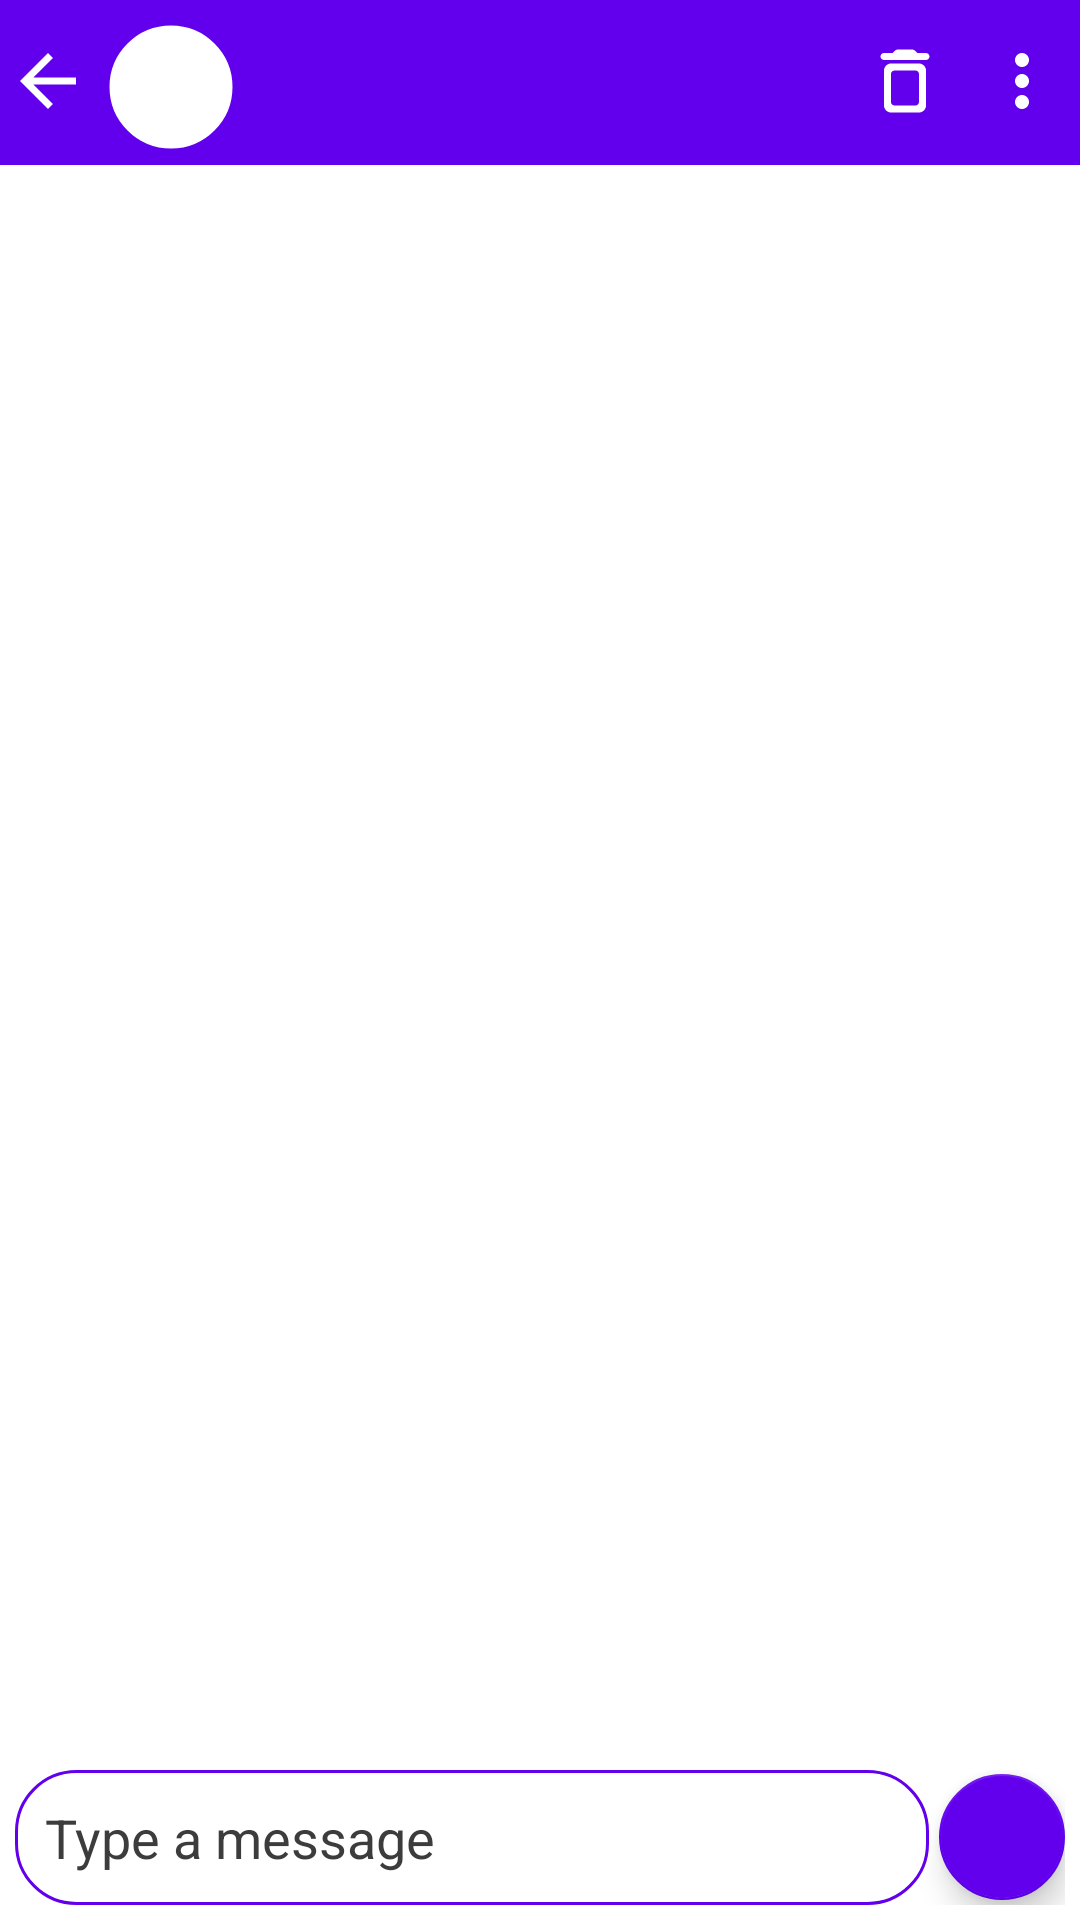

Named icons in this screenshot (1080px×1920px) and their centers, (x=x, y=y):
back arrow: (x=48, y=81)
delete: (x=905, y=81)
more dots vert: (x=1022, y=81)
